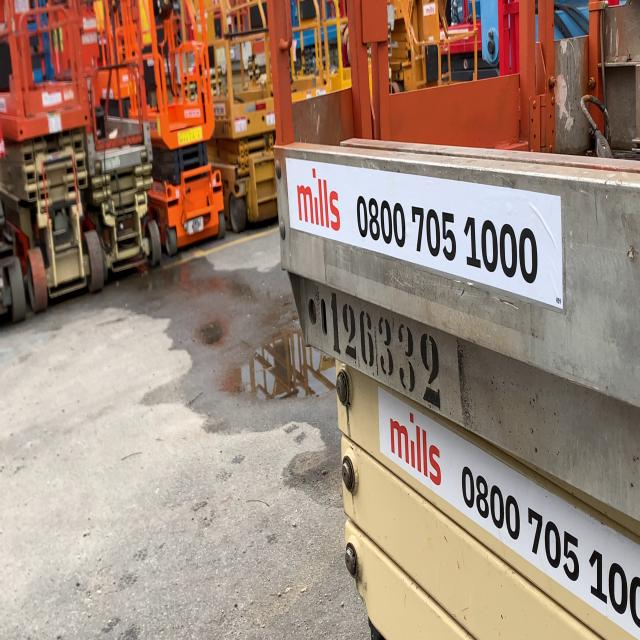Adesivo Longo: (283, 153, 566, 313)
